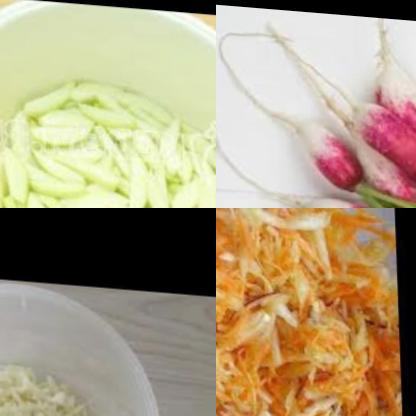cabbage: (0, 360, 107, 416), (231, 286, 298, 365), (254, 208, 340, 266), (253, 383, 342, 416)
carrot: (340, 318, 401, 416), (335, 208, 395, 244), (216, 208, 242, 236)
rediska: (330, 109, 416, 207), (275, 104, 376, 182), (342, 91, 416, 183), (372, 38, 416, 156), (285, 183, 413, 208)
vegetable marrow: (0, 62, 216, 208)
